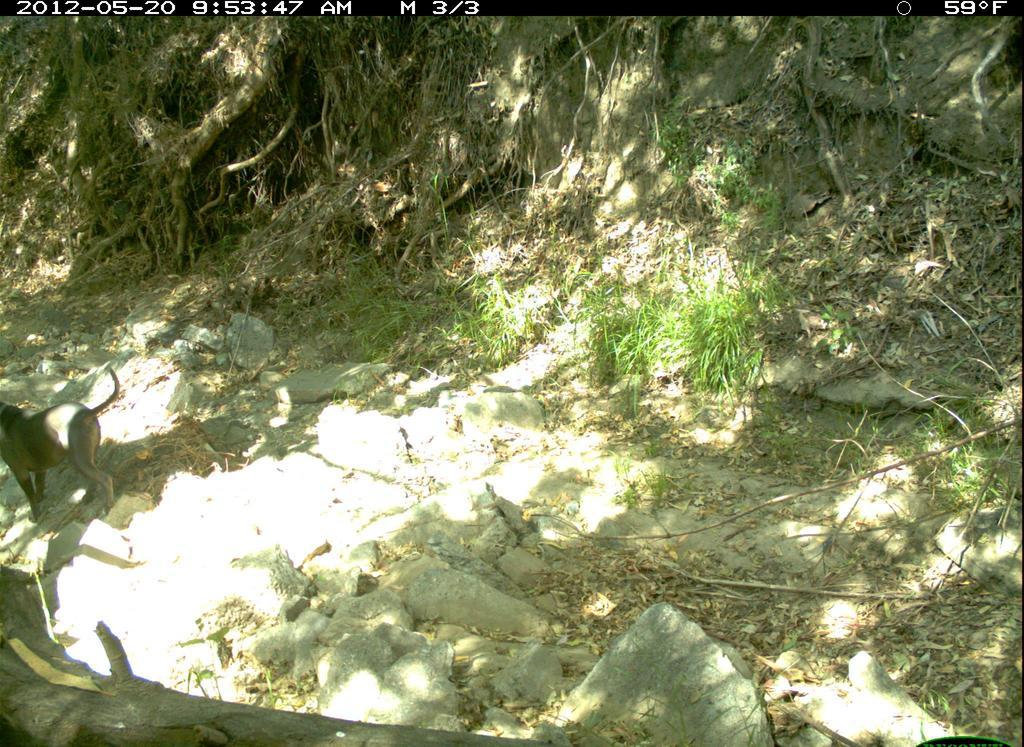dog: (1, 355, 137, 533)
